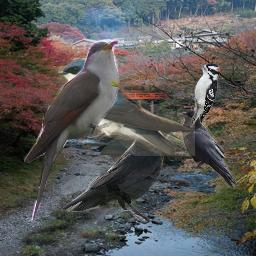Crow: (61, 120, 183, 221), (177, 109, 238, 189)
Cuckoo: (23, 40, 120, 225)
Swallow: (58, 58, 195, 156)
Woodpecker: (190, 60, 222, 130)
